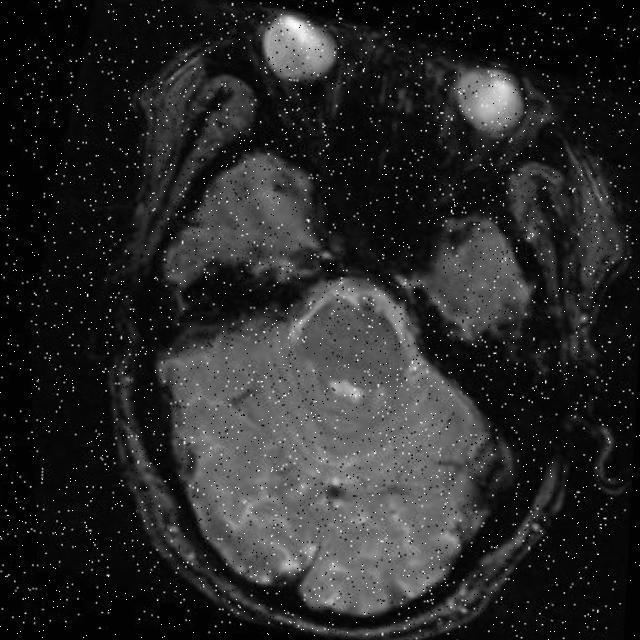MCI: (411, 230, 568, 442), (200, 141, 325, 293)
